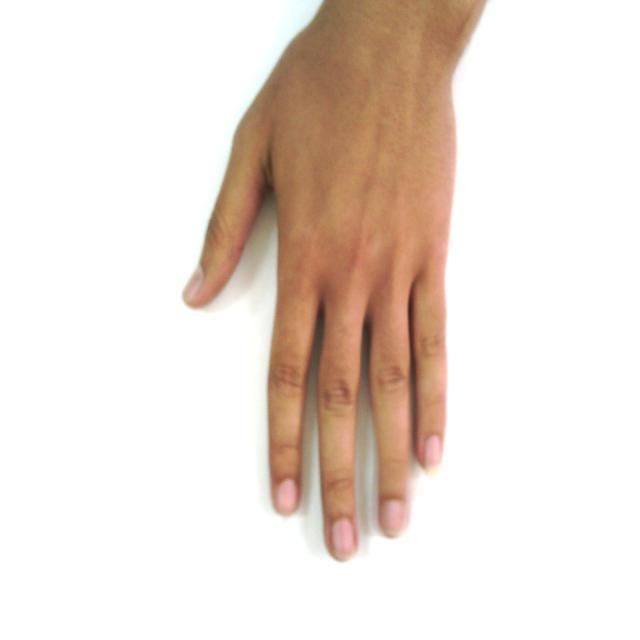Fingernail: (332, 518, 355, 559), (381, 500, 405, 536), (277, 480, 297, 516), (183, 268, 203, 300), (425, 435, 441, 472)
